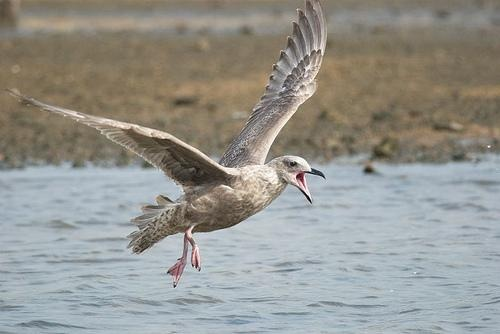bird: (12, 1, 333, 289)
